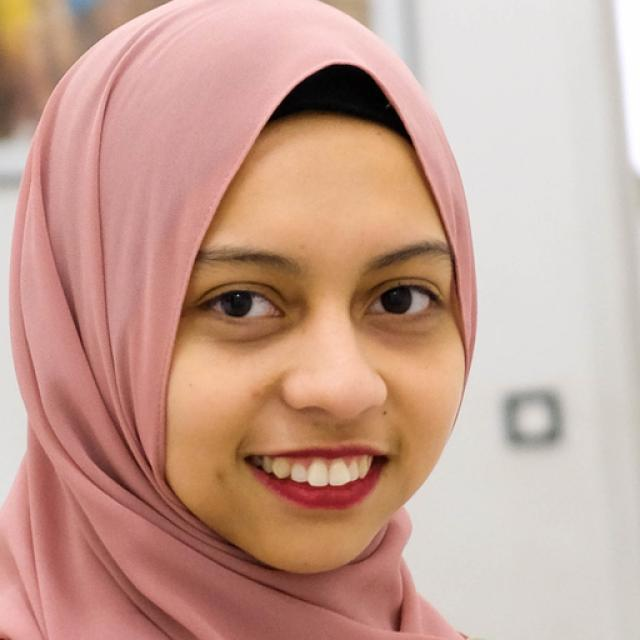Dark Circle: (195, 312, 295, 351), (360, 314, 446, 343)
